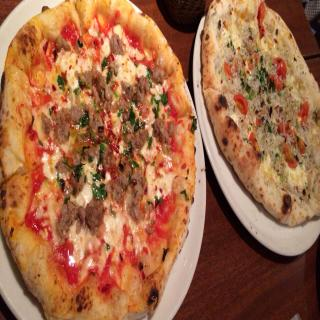Pizza: (6, 2, 204, 314), (201, 0, 319, 229)
